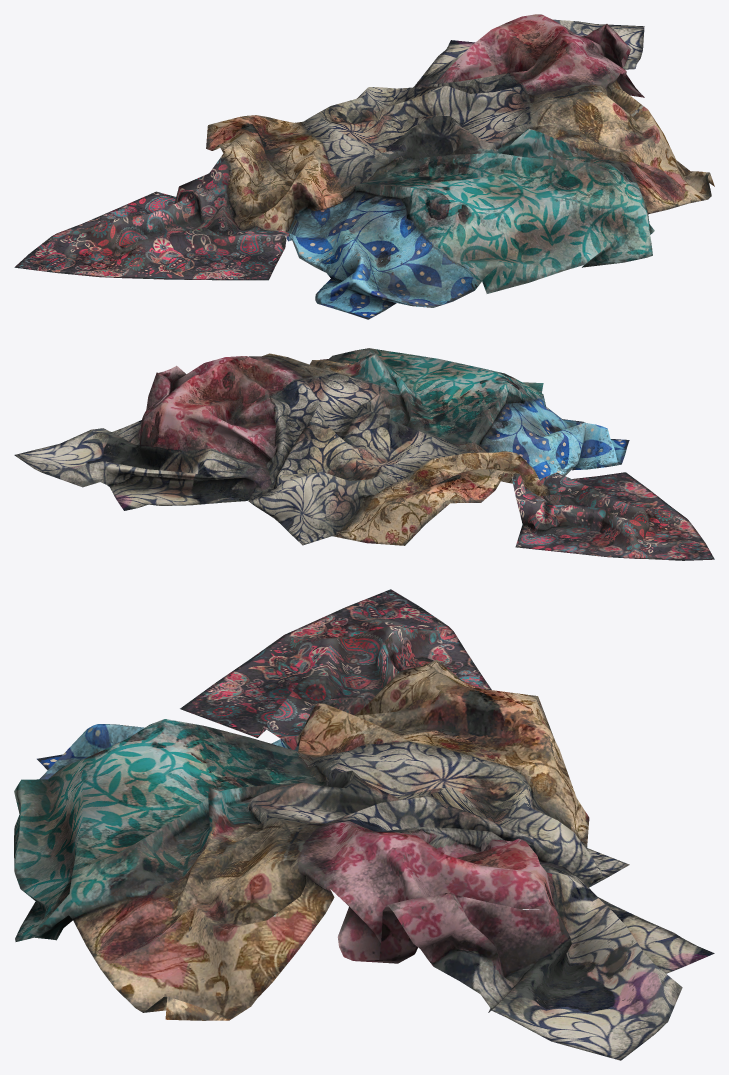
File: cloth_pile_dirty.dae
3 renders of one model, top to bottom at view 1: azimuth 30°, elevation 25°; view 2: azimuth 150°, elevation 25°; view 3: azimuth 270°, elevation 25°, orthographic. The views are drawn at different scales.
Parts seen in each view (by area): view 1: cloth1_polySurface1; view 2: cloth1_polySurface1; view 3: cloth1_polySurface1.
Boxes of the visible parts, x1=… form: cloth1_polySurface1: x1=14, y1=14, x2=714, y2=319; cloth1_polySurface1: x1=14, y1=348, x2=714, y2=560; cloth1_polySurface1: x1=14, y1=589, x2=714, y2=1060.
Size of the model in its own units: 58.58 by 8.35 by 36.16.
